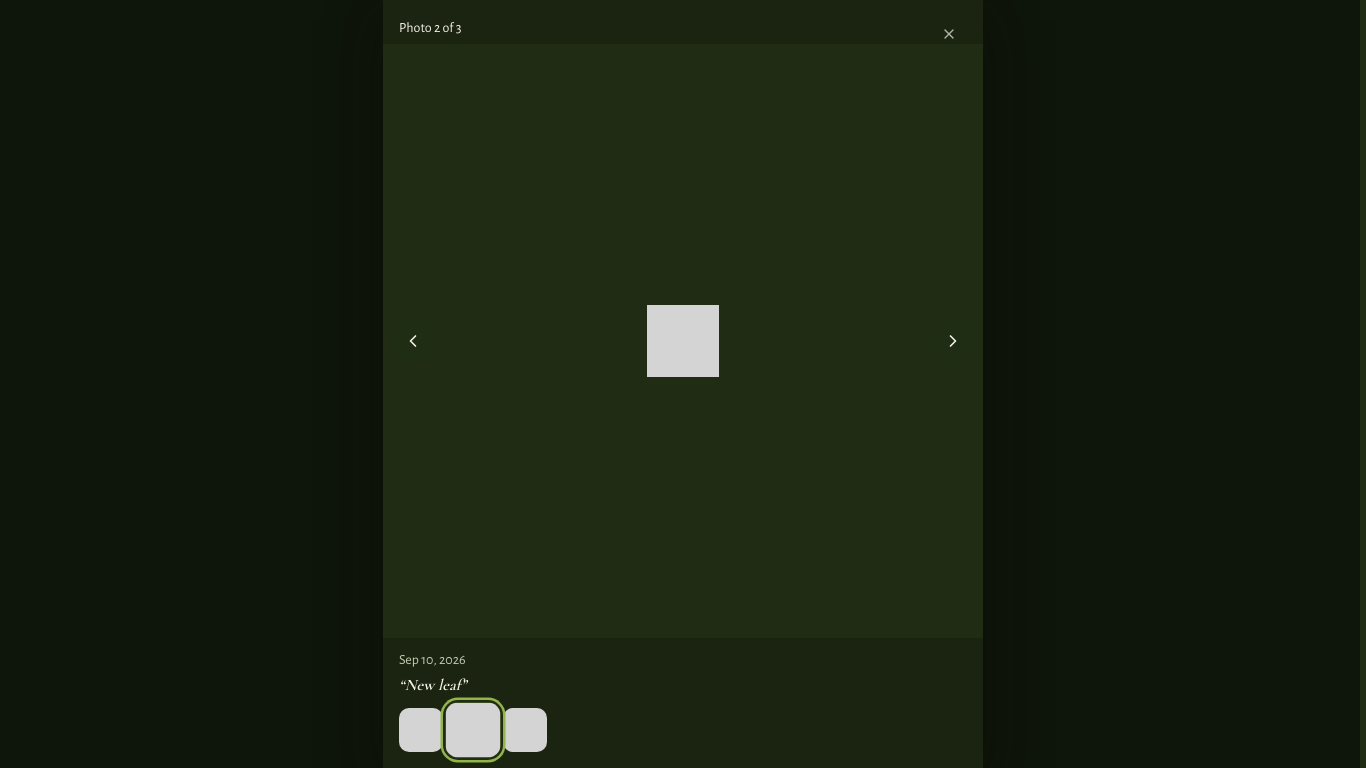
Test: a swipe pages, a short drag does not
Press the mouse on the element with test id "photo-viewer-stage" at (683,341), box [383, 44, 983, 638]
Expected: the text with test id "photo-viewer-status" reads "Photo 2 of 3", [399, 21, 462, 35]
Press the mouse on the element with test id "photo-viewer-stage" at (683,341), box [383, 44, 983, 638]
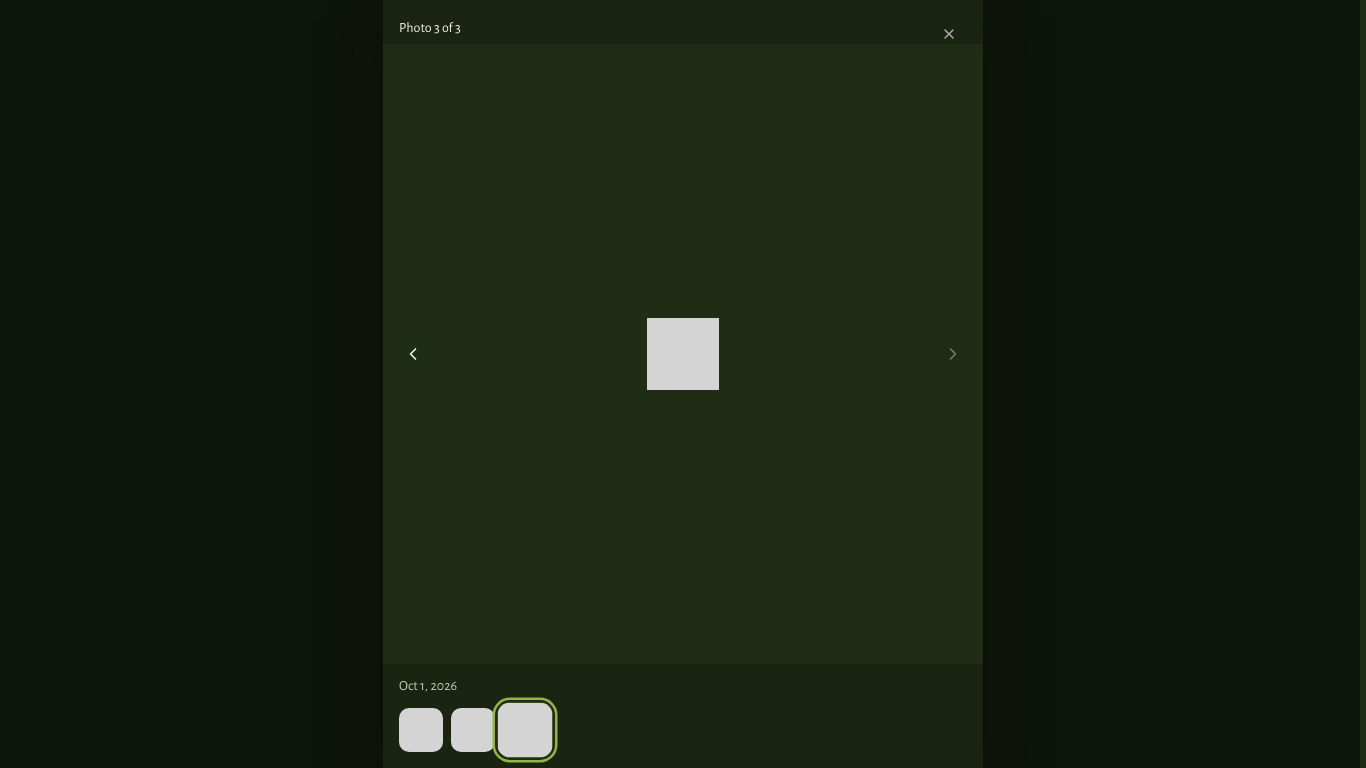
Expected: the text with test id "photo-viewer-status" reads "Photo 3 of 3", [399, 21, 461, 35]
Press the mouse on the element with test id "photo-viewer-stage" at (683,354), box [383, 44, 983, 664]
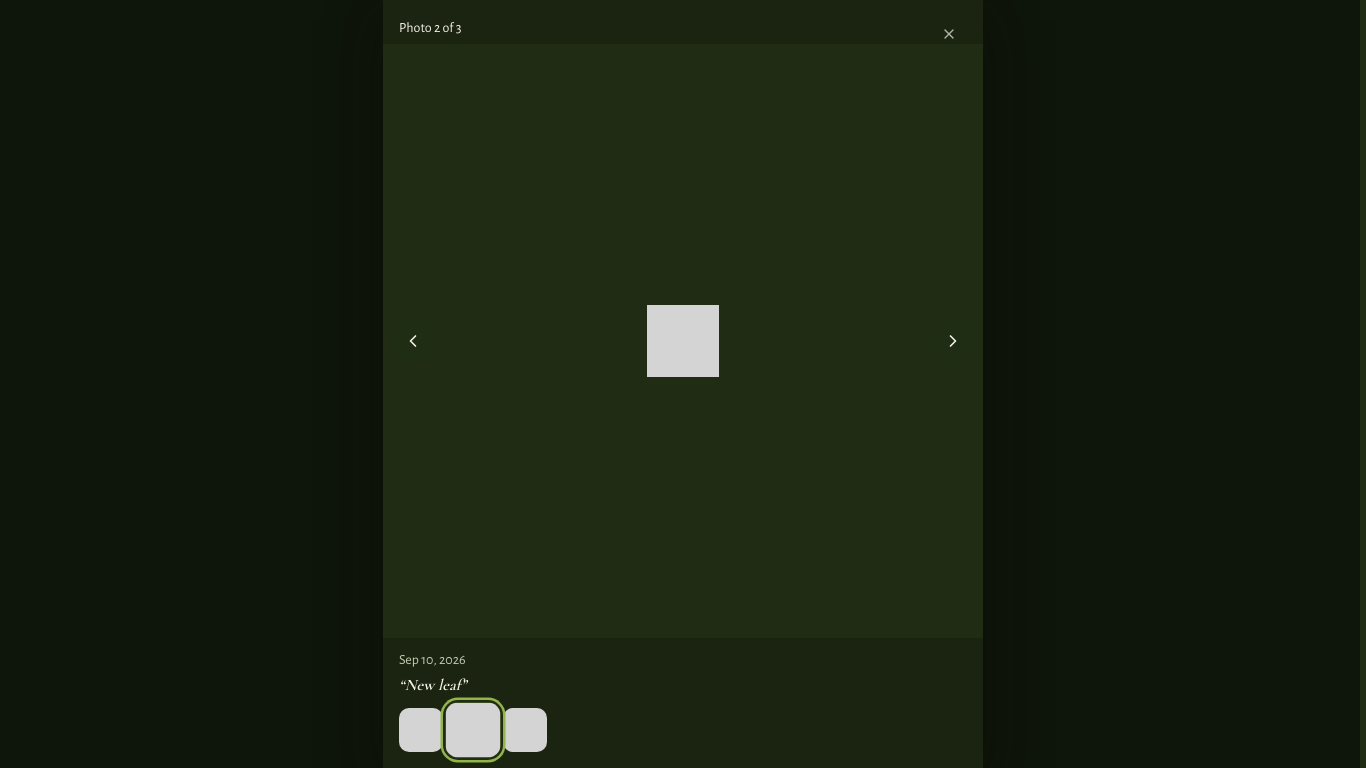
Expected: the text with test id "photo-viewer-status" reads "Photo 2 of 3", [399, 21, 462, 35]
